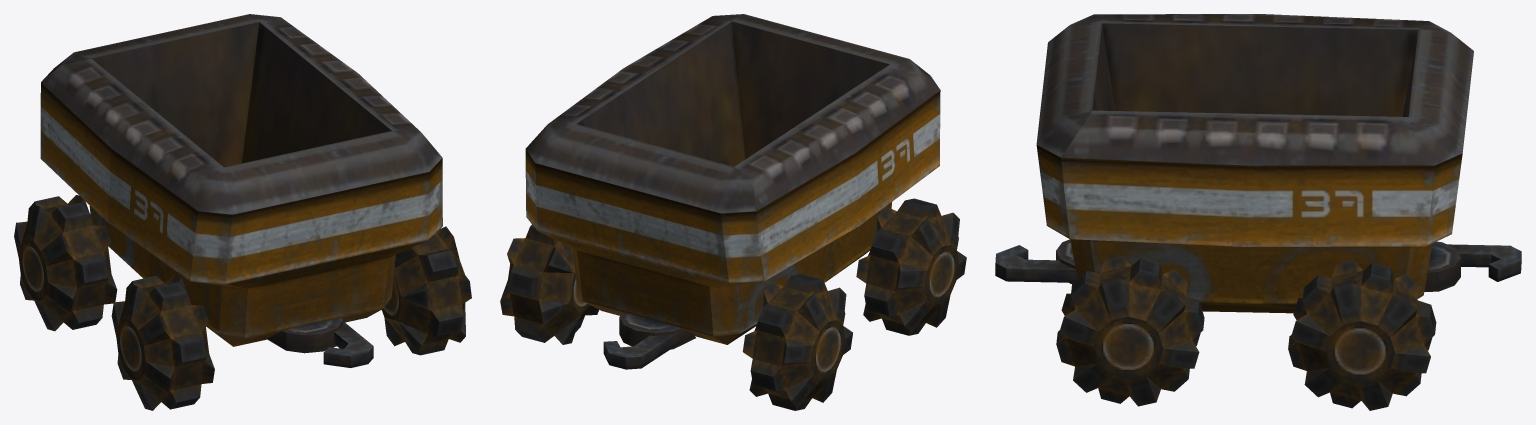
The model's file is marsaraminecart.fbx.
3 views of the same model, side by side, from view 1: azimuth 30°, elevation 25°; view 2: azimuth 150°, elevation 25°; view 3: azimuth 270°, elevation 25° (orthographic). The views are drawn at different scales.
Visible parts, largest first — view 1: Geoset_0; view 2: Geoset_0; view 3: Geoset_0.
Boxes of the visible parts, box(x1,y1,x2,y2) form: Geoset_0: box(14, 14, 471, 410); Geoset_0: box(500, 14, 966, 410); Geoset_0: box(995, 14, 1521, 410).
Size of the model in its own units: 1.3 by 0.9211 by 1.67.
1 material, 1 textured.
